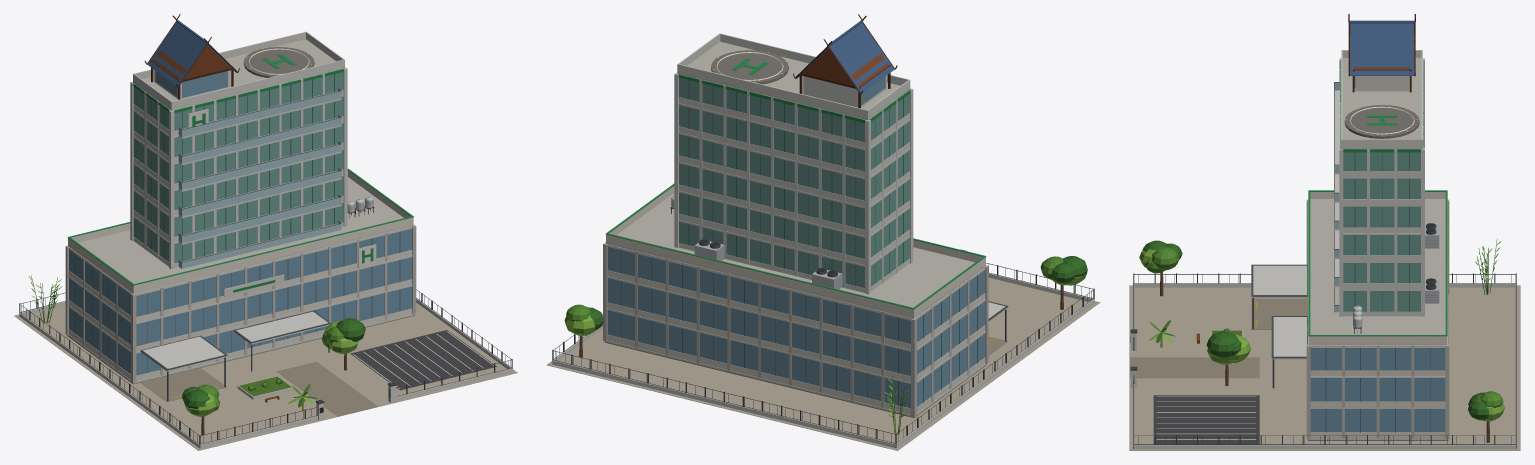
File: hospital.glb
The picture shows the model from 3 angles, left to right: view 1: azimuth 30°, elevation 25°; view 2: azimuth 150°, elevation 25°; view 3: azimuth 270°, elevation 25°; orthographic projection. The views are drawn at different scales.
Parts seen in each view (by area): view 1: body; view 2: body; view 3: body.
Boxes of the visible parts, x1,y1,x2,y2 form: body: (14,14,517,450); body: (546,14,1100,450); body: (1129,14,1520,450).
Size of the model in its own units: 47.9 by 44.44 by 47.9.
